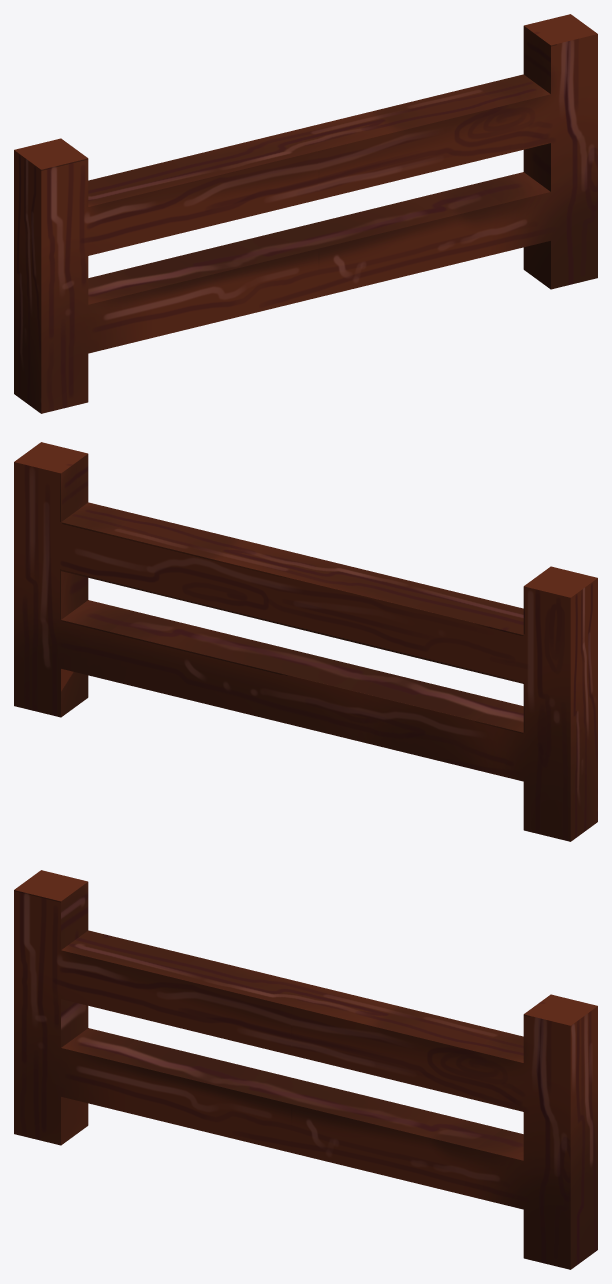
The model's file is FarmFence.fbx.
3 views of the same model, one above another, from view 1: azimuth 30°, elevation 25°; view 2: azimuth 150°, elevation 25°; view 3: azimuth 330°, elevation 25° (orthographic).
Visible parts, largest first — view 1: FarmFence; view 2: FarmFence; view 3: FarmFence.
Boxes of the visible parts, bbox=[...] form: FarmFence: bbox=[14, 14, 597, 413]; FarmFence: bbox=[14, 442, 597, 841]; FarmFence: bbox=[14, 870, 597, 1269].
Size of the model in its own units: 256 by 107 by 21.71.
1 material, 1 textured.
